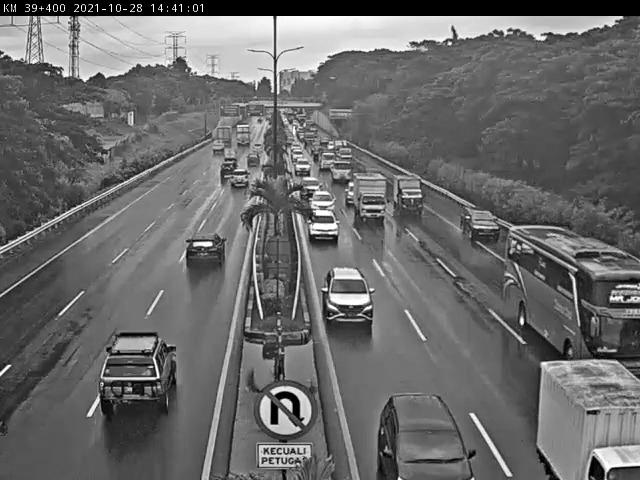big bus: (504, 224, 640, 374)
car: (97, 331, 179, 415), (321, 266, 373, 325), (184, 232, 226, 267), (459, 207, 502, 241), (305, 209, 340, 241)
mid truck: (352, 171, 385, 220), (392, 173, 424, 213), (309, 189, 337, 214)
